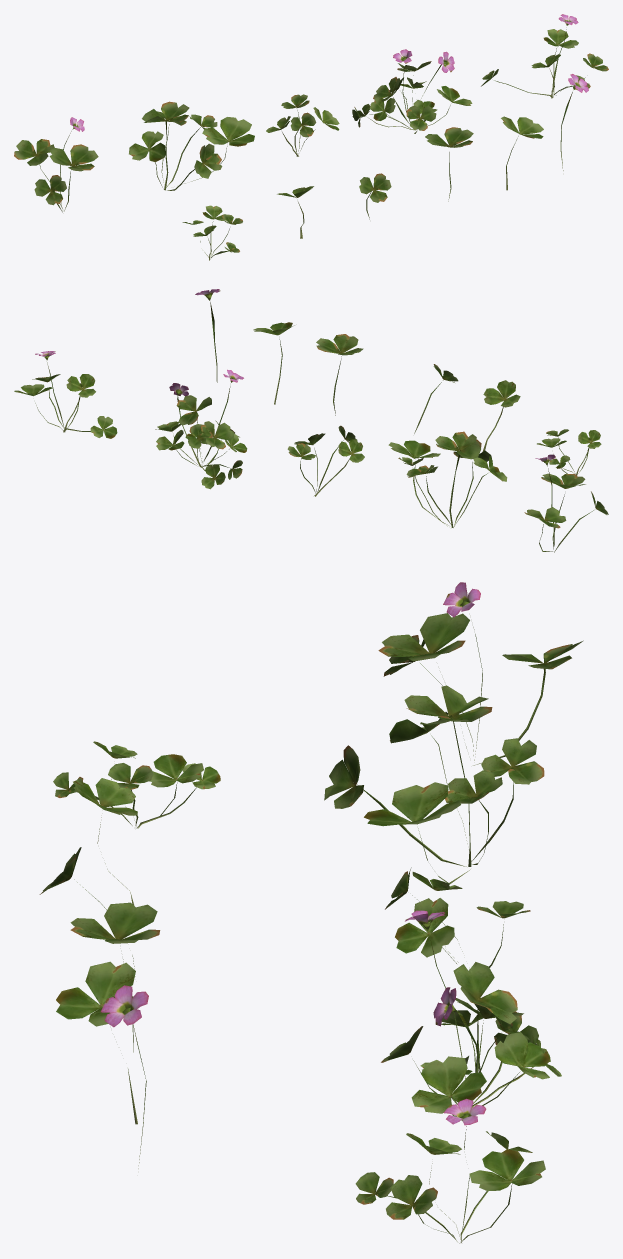
Rendered from shrub_sorrel_01.glb.
3 renders of one model, top to bottom at view 1: azimuth 30°, elevation 25°; view 2: azimuth 150°, elevation 25°; view 3: azimuth 270°, elevation 25°, orthographic. The views are drawn at different scales.
Visible parts, largest first — view 1: shrub_sorrel_01_k; view 2: shrub_sorrel_01_k; view 3: shrub_sorrel_01_k.
Boxes of the visible parts, x1,y1,x2,y2 form: shrub_sorrel_01_k: [14, 14, 608, 260]; shrub_sorrel_01_k: [14, 289, 608, 552]; shrub_sorrel_01_k: [39, 582, 583, 1243].
Bounding box in the file's own units: 0.3521 × 0.058 × 0.1464.
Materials: 1 (1 with a texture image).
